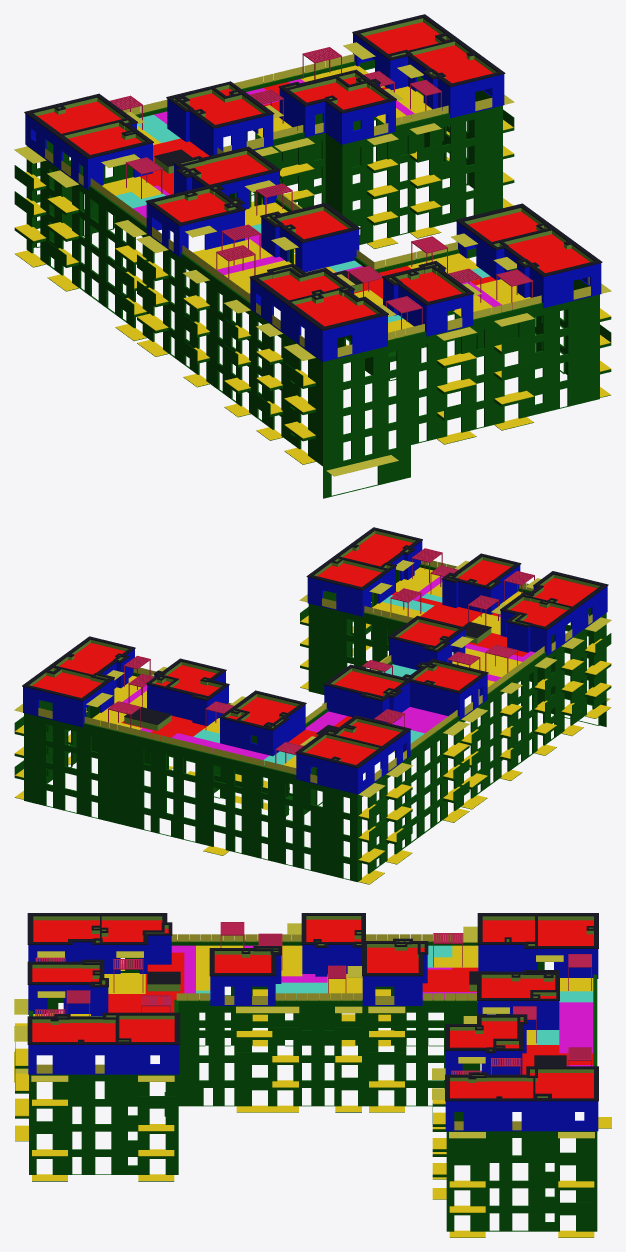
The model's file is Fasada.fbx.
3 renders of one model, top to bottom at view 1: azimuth 30°, elevation 25°; view 2: azimuth 150°, elevation 25°; view 3: azimuth 270°, elevation 25°, orthographic. The views are drawn at different scales.
Visible parts, largest first — view 1: Fasada; view 2: Fasada; view 3: Fasada.
Boxes of the visible parts, <box> form: Fasada: <box>14,14,611,498</box>; Fasada: <box>14,527,611,884</box>; Fasada: <box>14,913,611,1237</box>.
Size of the model in its own units: 4964 by 6321 by 1898.
